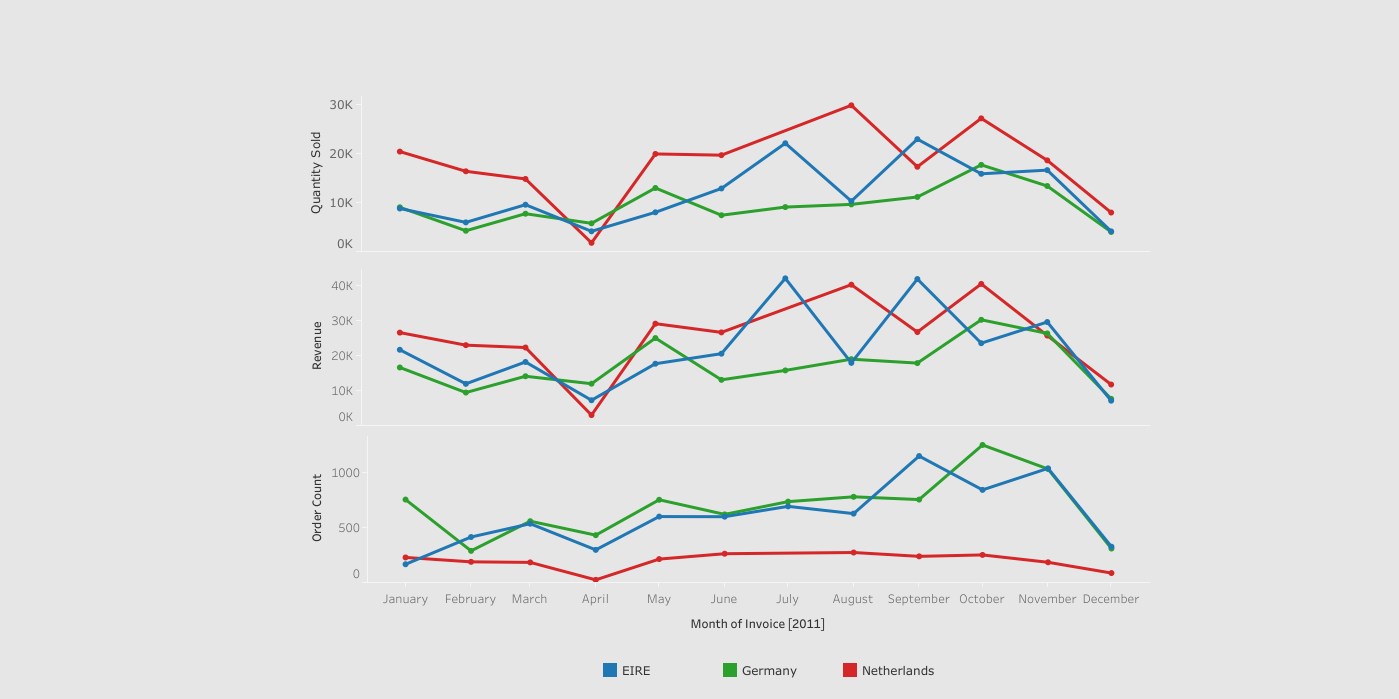

This screenshot's page, from the dashboard's own definition file:
{"tool":"tableau","page":{"name":"Top_3_Countries_Performance","canvas":[1400,700],"ordinal":11},"visuals":[{"type":"worksheet","title":"Seasonality-Quantity","mark":"Automatic","rows":["Quantity"],"cols":["InvoiceDate"],"box":[300,96,849,155]},{"type":"worksheet","title":"Seasonality-Sales Revenue","mark":"Automatic","rows":["Calculation_1441996330369675264"],"cols":["InvoiceDate"],"box":[300,269,849,156]},{"type":"worksheet","title":"Seasonality-Invoice Count","mark":"Automatic","rows":["InvoiceNo"],"cols":["InvoiceDate"],"box":[300,436,849,203]},{"type":"legend","title":"Seasonality-Quantity","param":"[federated.120o6hi1b9q1li126ojbf0d454lv].[none:Country:nk]","box":[600,660,363,24]}]}

Visuals, with their boxes in screenshot pixels (x1, y1, x2, y2), scaled from the page's 1400x700 canvas onto the 1399x699 screenshot:
"Seasonality-Quantity" worksheet: <region>300, 96, 1148, 251</region>
"Seasonality-Sales Revenue" worksheet: <region>300, 269, 1148, 424</region>
"Seasonality-Invoice Count" worksheet: <region>300, 435, 1148, 638</region>
"Seasonality-Quantity" legend: <region>600, 659, 962, 683</region>
